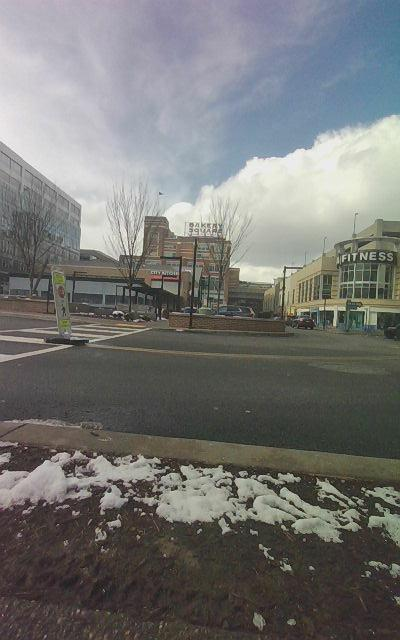curb: (0, 423, 399, 639)
road: (0, 316, 399, 458)
